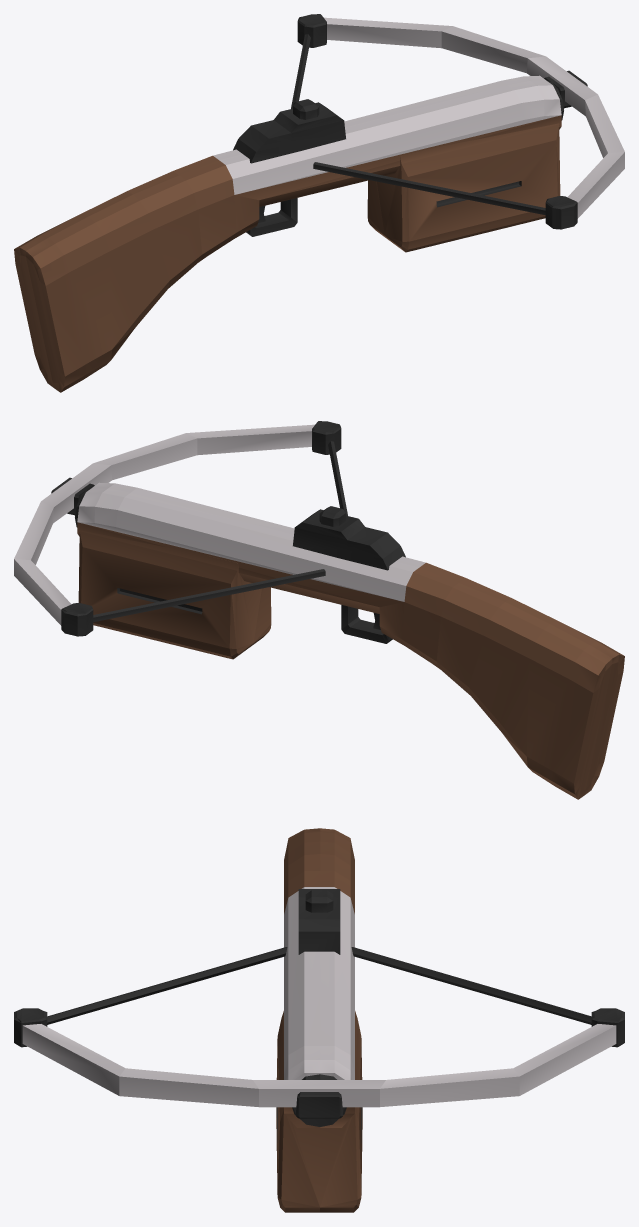
The model's file is Chu Ko Nu.fbx.
The picture shows the model from 3 angles, top to bottom: view 1: azimuth 30°, elevation 25°; view 2: azimuth 150°, elevation 25°; view 3: azimuth 270°, elevation 25°; orthographic projection. The views are drawn at different scales.
Visible parts, largest first — view 1: Mesh; view 2: Mesh; view 3: Mesh.
Boxes of the visible parts, x1,y1,x2,y2 form: Mesh: [14, 14, 624, 392]; Mesh: [14, 421, 624, 799]; Mesh: [14, 828, 624, 1212].
Bounding box in the file's own units: 101 × 82.71 × 39.14.
